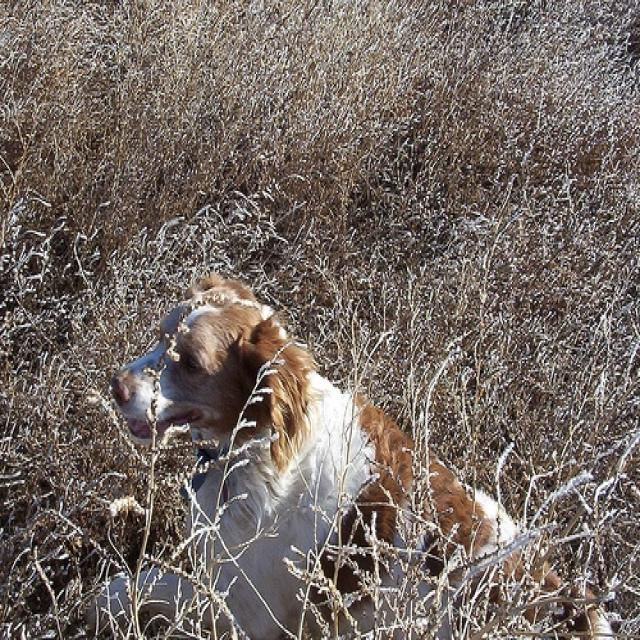dog: (87, 279, 609, 638)
